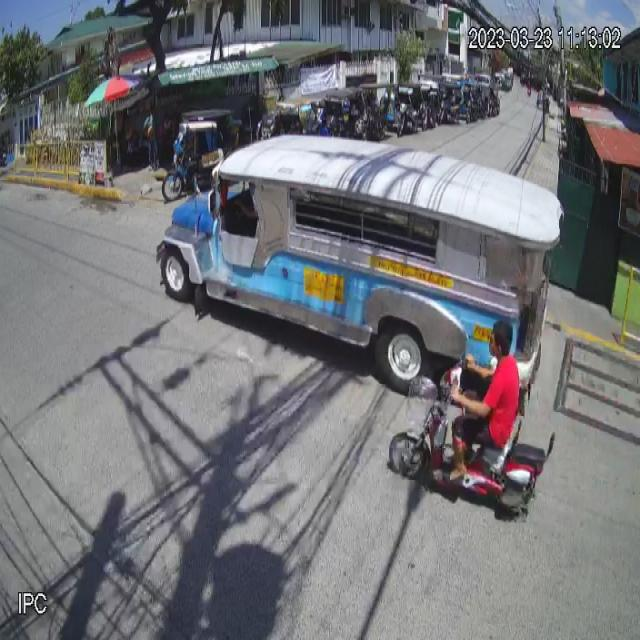Jeep: (154, 136, 563, 407)
